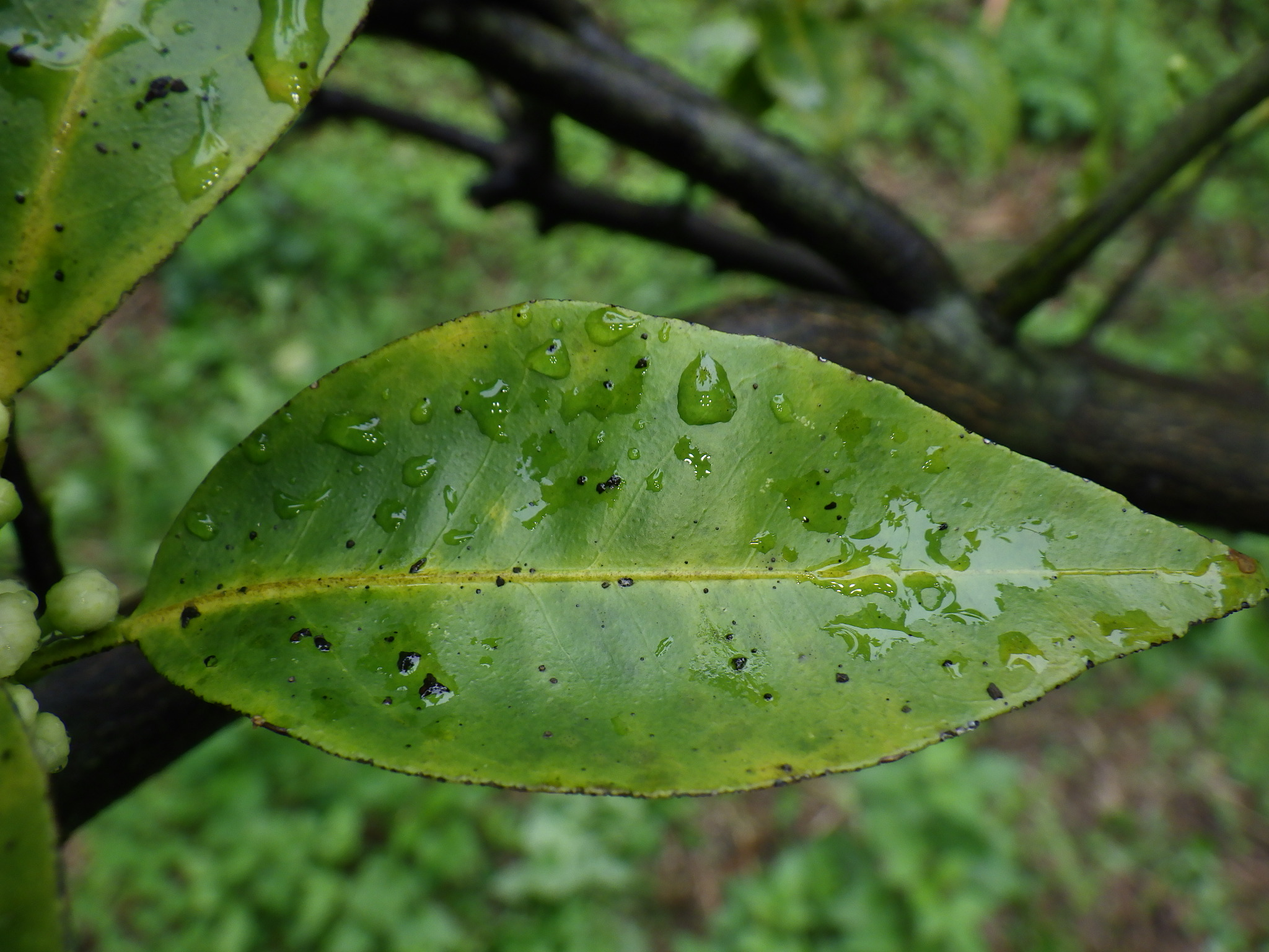Oily_Spot: (111, 302, 1268, 795)
